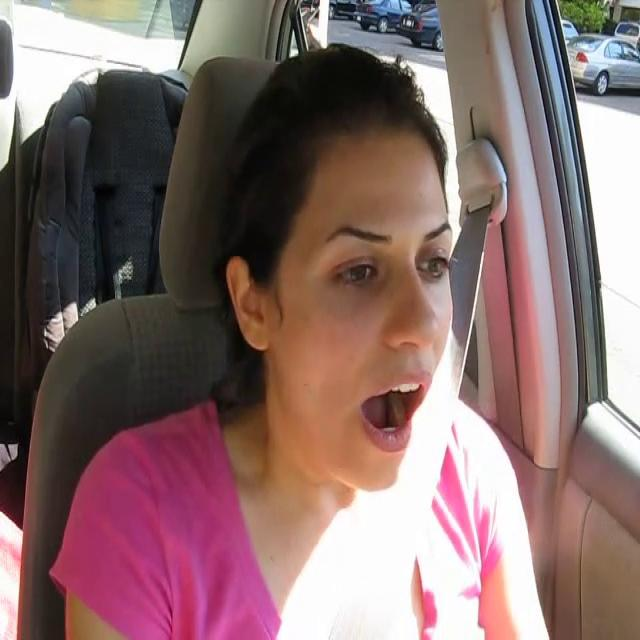yawn: (358, 372, 436, 451)
